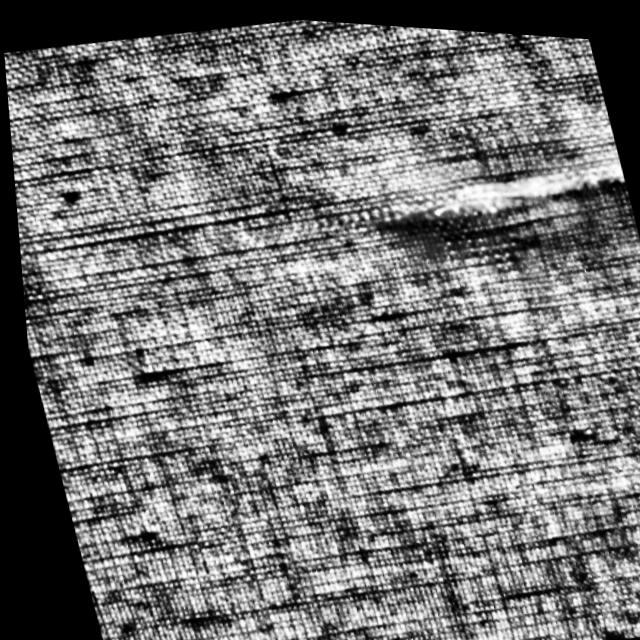Stitch: (359, 130, 639, 277)
